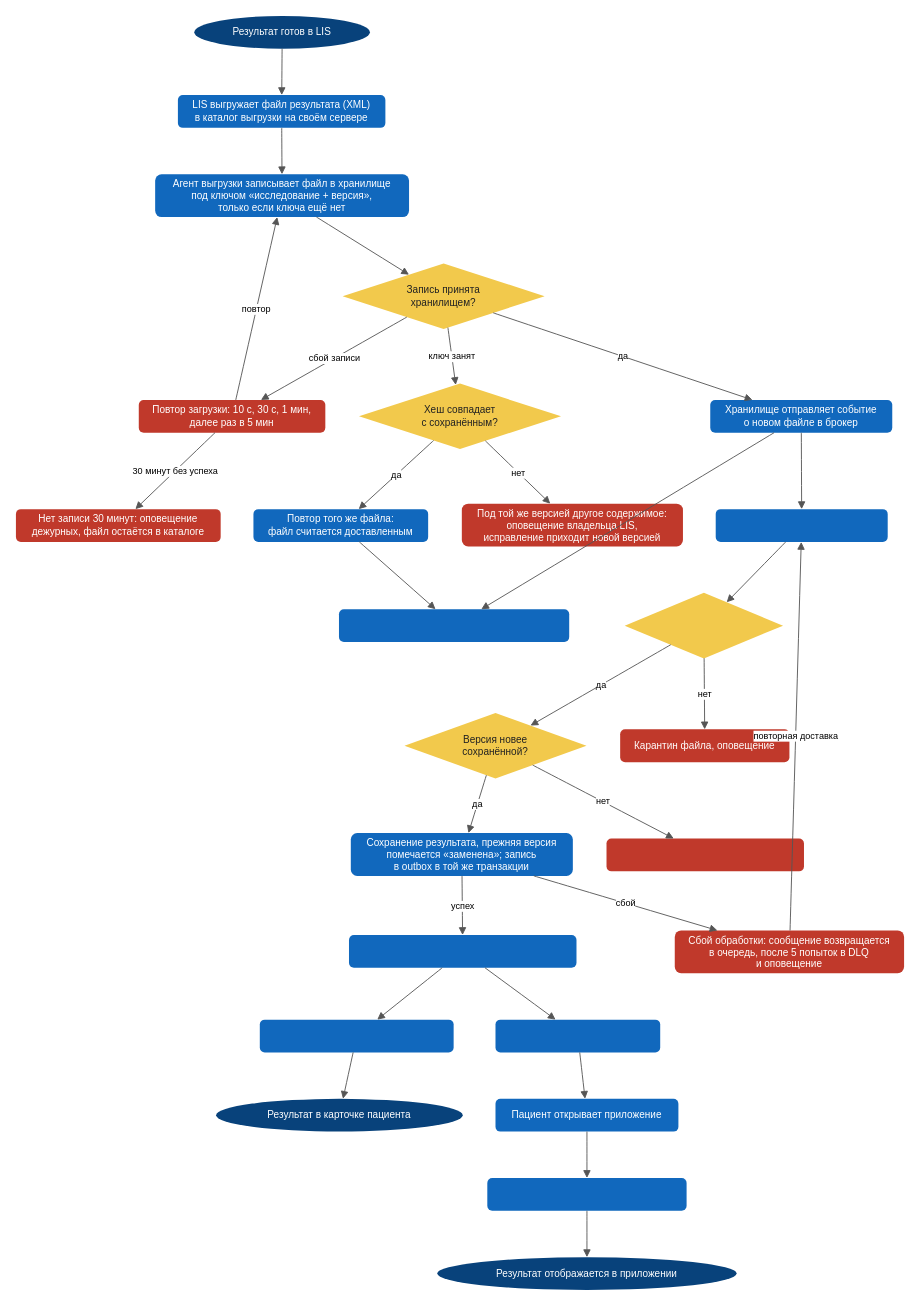
Some shapes in this 919 by 1305 pixel diagram are drawn without their labels. Each missing label, with the box of its shape:
API Gateway запрашивает результат у сервиса анализов: (487, 1178, 686, 1210)
CRM обновляет карточку пациента (идемпотентный получатель): (259, 1019, 453, 1052)
Агент удаляет файл из каталога выгрузки: (339, 609, 569, 642)
Дубль или устаревшая версия: отбросить, подтвердить сообщение: (606, 838, 804, 871)
Публикация события «результат готов» (идентификатор, версия, ссылка на файл): (349, 935, 576, 967)
Сервис анализов читает файл, проверяет хеш и схему XML: (715, 509, 887, 541)
Уведомления отправляют push / SMS «результат готов»: (495, 1019, 660, 1052)
Файл корректен?: (624, 592, 783, 658)
